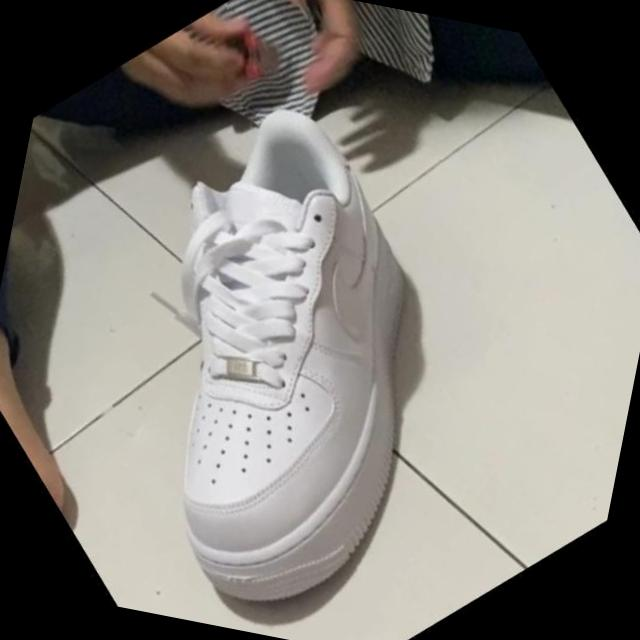nike_original_airforce: (0, 33, 601, 640)
